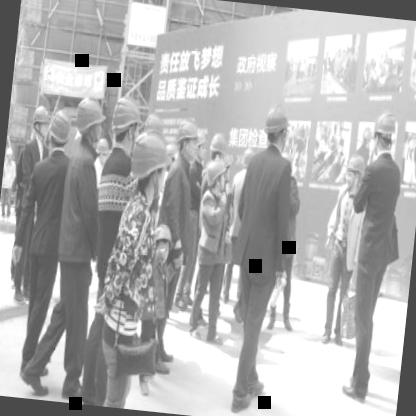helmet: (130, 128, 173, 206), (258, 99, 294, 157), (70, 98, 106, 147), (170, 117, 204, 165), (110, 98, 141, 150), (370, 108, 399, 160), (148, 216, 174, 274), (47, 107, 75, 152), (343, 150, 370, 192), (204, 158, 229, 198), (28, 103, 50, 143), (208, 129, 228, 166)
